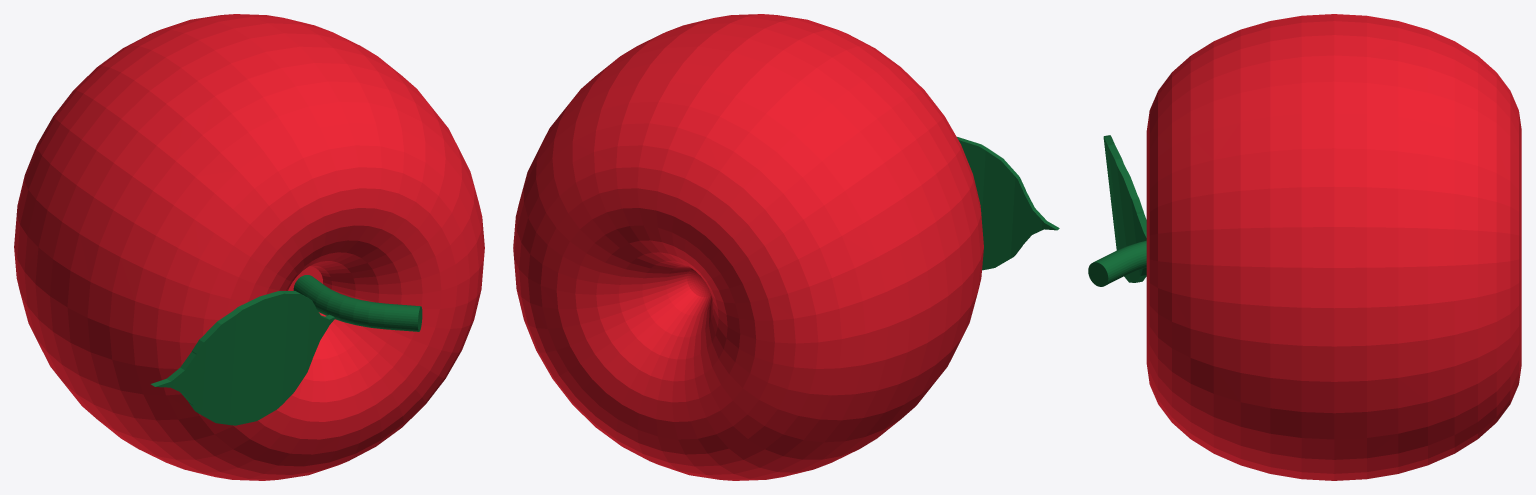
Rendered from Apple.obj.
The picture shows the model from 3 angles, left to right: view 1: azimuth 30°, elevation 25°; view 2: azimuth 150°, elevation 25°; view 3: azimuth 270°, elevation 25°; orthographic projection.
Visible parts, largest first — view 1: group_0_15277357, group_0_1206582; view 2: group_0_15277357, group_0_1206582; view 3: group_0_15277357, group_0_1206582.
Boxes of the visible parts, x1=… form: group_0_15277357: x1=14, y1=14, x2=484, y2=480; group_0_1206582: x1=151, y1=275, x2=422, y2=425; group_0_15277357: x1=513, y1=14, x2=983, y2=480; group_0_1206582: x1=957, y1=137, x2=1059, y2=270; group_0_15277357: x1=1146, y1=14, x2=1521, y2=480; group_0_1206582: x1=1088, y1=135, x2=1146, y2=286.
Size of the model in its own units: 20.22 by 20 by 18.5.
